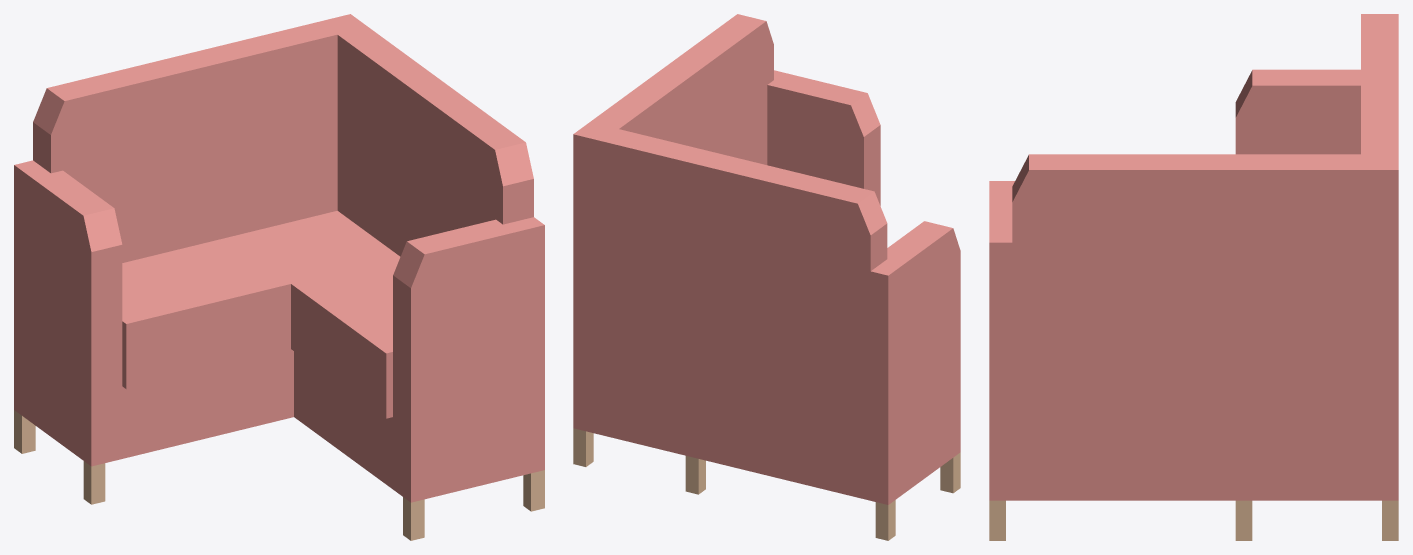
File: kn-lounge-sofa-corner.glb
The picture shows the model from 3 angles, left to right: view 1: azimuth 30°, elevation 25°; view 2: azimuth 150°, elevation 25°; view 3: azimuth 270°, elevation 25°; orthographic projection. The views are drawn at different scales.
Visible parts, largest first — view 1: loungeSofaCorner(Clone); view 2: loungeSofaCorner(Clone); view 3: loungeSofaCorner(Clone).
Part boxes in pixels (x1,y1,x2,y2): loungeSofaCorner(Clone): (14, 14, 544, 540); loungeSofaCorner(Clone): (573, 14, 960, 540); loungeSofaCorner(Clone): (989, 14, 1398, 540).
Bounding box in the file's own units: 1 × 1 × 1.
